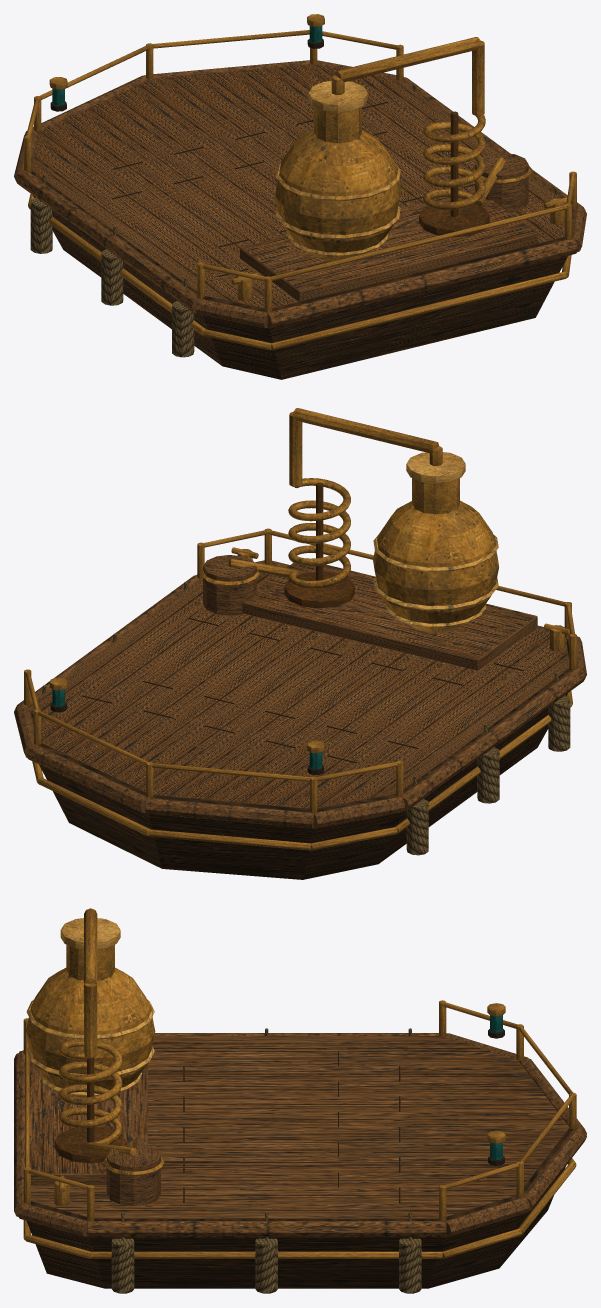
File: still-room-barge.glb
3 views of the same model, one above another, from view 1: azimuth 30°, elevation 25°; view 2: azimuth 150°, elevation 25°; view 3: azimuth 270°, elevation 25° (orthographic).
Visible parts, largest first — view 1: still-room-barge; view 2: still-room-barge; view 3: still-room-barge.
Part boxes in pixels (x1,y1,x2,y2): still-room-barge: (14, 14, 586, 379); still-room-barge: (14, 408, 586, 879); still-room-barge: (14, 908, 586, 1293).
Size of the model in its own units: 6.44 by 4.27 by 7.98.
Materials: 2 (2 with a texture image).
